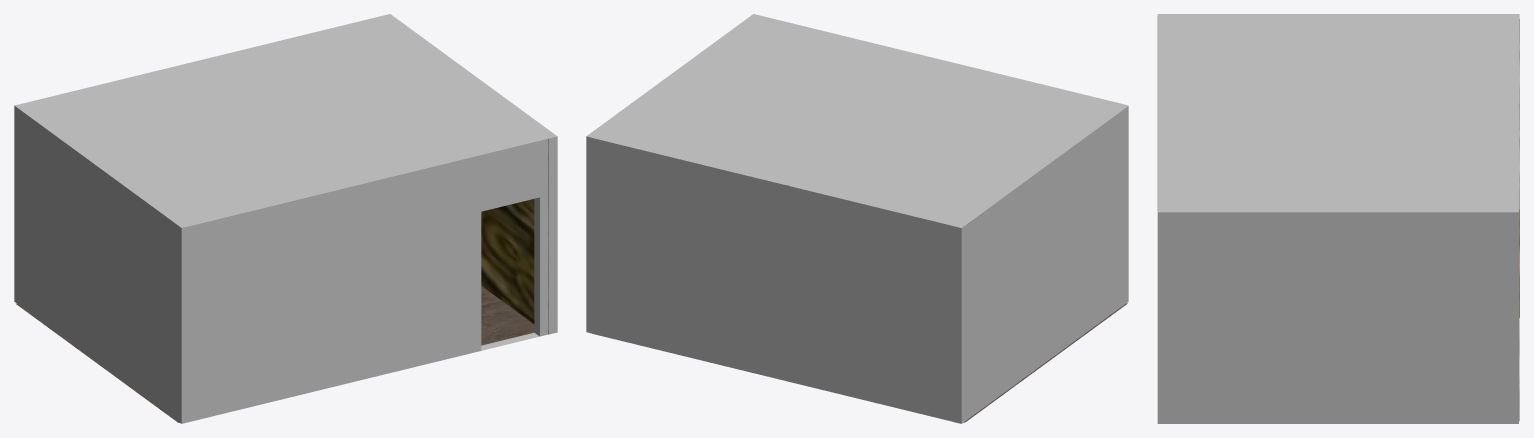
Rendered from Salas.fbx.
The picture shows the model from 3 angles, left to right: view 1: azimuth 30°, elevation 25°; view 2: azimuth 150°, elevation 25°; view 3: azimuth 270°, elevation 25°; orthographic projection. The views are drawn at different scales.
Visible parts, largest first — view 1: Paredes (Hacer hueco sala 5); view 2: Paredes (Hacer hueco sala 5); view 3: Paredes (Hacer hueco sala 5).
Part boxes in pixels (left/top/right/bottom): Paredes (Hacer hueco sala 5): left=14, top=14, right=557, bottom=423; Paredes (Hacer hueco sala 5): left=586, top=14, right=1128, bottom=423; Paredes (Hacer hueco sala 5): left=1157, top=14, right=1519, bottom=423.
Size of the model in its own units: 604 by 301 by 465.
